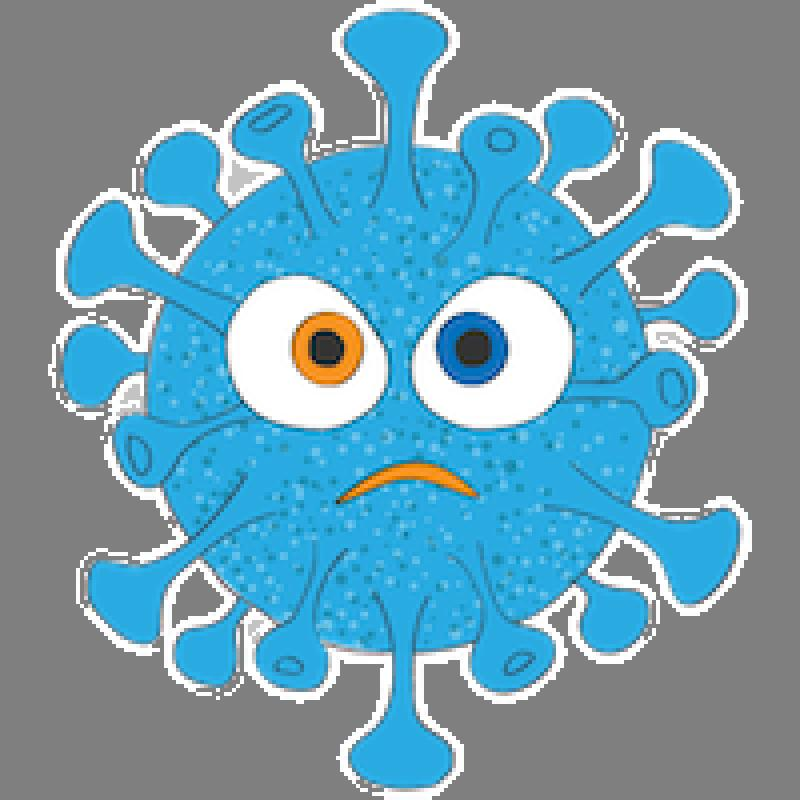corona2: (12, 0, 788, 796)
